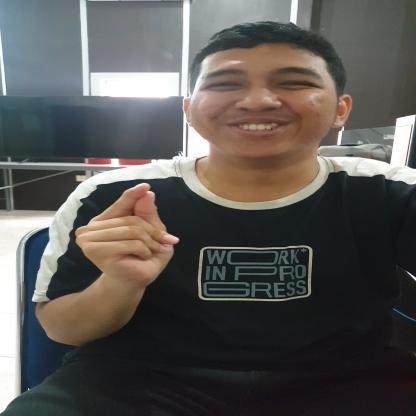R: (69, 180, 191, 294)
